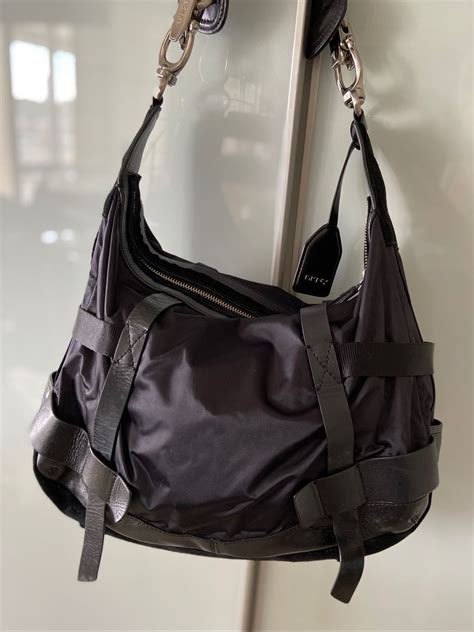nylon: (28, 174, 440, 563)
